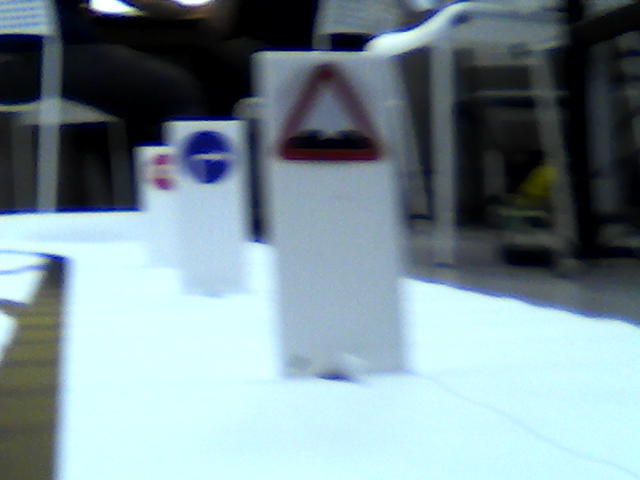Nerov: (274, 63, 384, 163)
